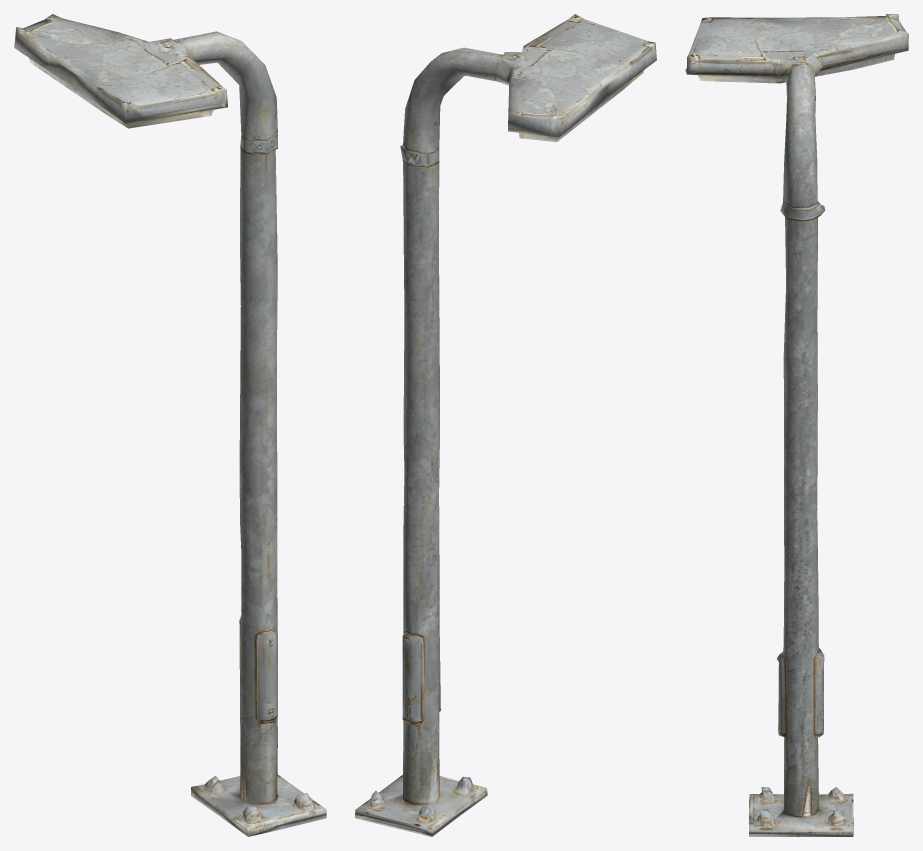
File: street_lamp.glb
3 renders of one model, left to right at view 1: azimuth 30°, elevation 25°; view 2: azimuth 150°, elevation 25°; view 3: azimuth 270°, elevation 25°, orthographic. The views are drawn at different scales.
Parts seen in each view (by area): view 1: street_lamp; view 2: street_lamp; view 3: street_lamp.
Part boxes in pixels (x1,y1,x2,y2): street_lamp: (14,14,326,836); street_lamp: (355,14,656,836); street_lamp: (685,14,908,836).
Bounding box in the file's own units: 1.23 × 4 × 1.12.
Materials: 1 (1 with a texture image).
